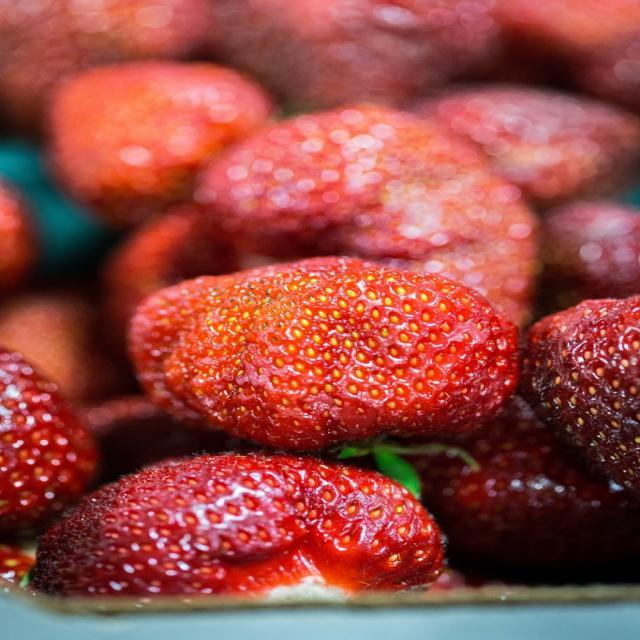Strawberry: (0, 2, 639, 606), (83, 280, 556, 472)
